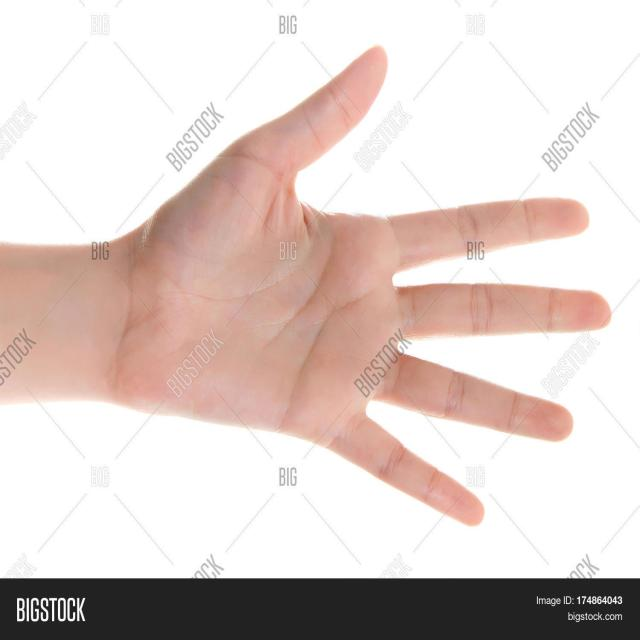no-gloves: (108, 46, 612, 529)
